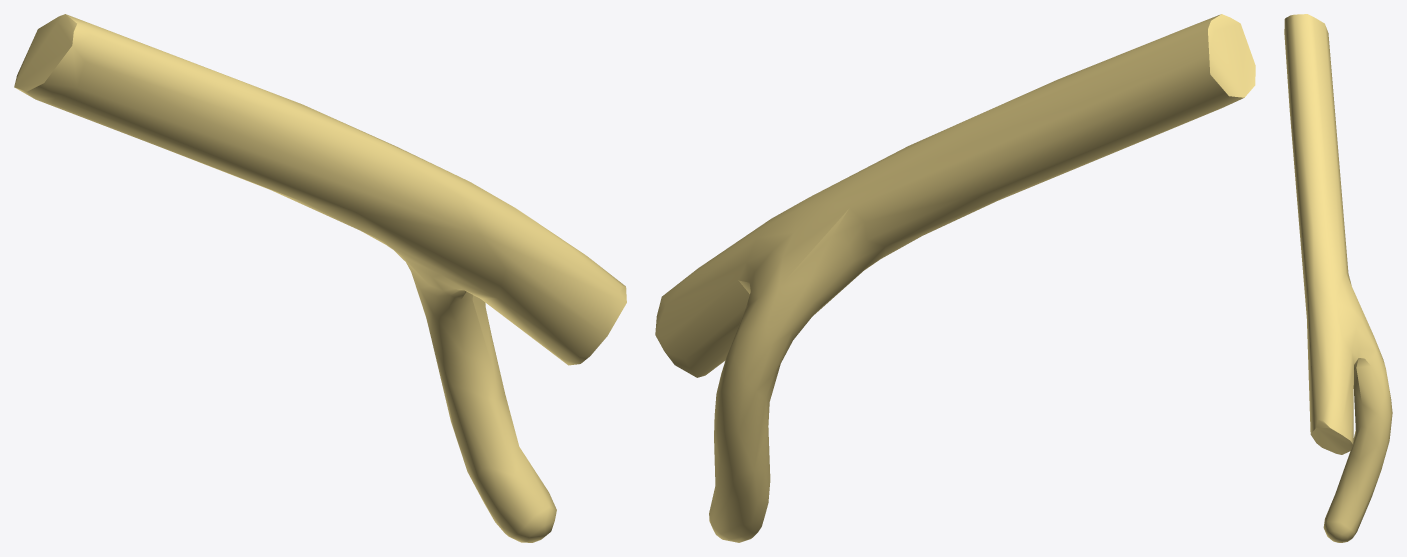
Rendered from fma65362_fj4290.glb.
3 views of the same model, side by side, from view 1: azimuth 30°, elevation 25°; view 2: azimuth 150°, elevation 25°; view 3: azimuth 270°, elevation 25° (orthographic). The views are drawn at different scales.
Parts seen in each view (by area): view 1: FMA65362_FJ4290; view 2: FMA65362_FJ4290; view 3: FMA65362_FJ4290.
Boxes of the visible parts, left/top/right/bottom form: FMA65362_FJ4290: left=14, top=14, right=626, bottom=542; FMA65362_FJ4290: left=655, top=14, right=1255, bottom=542; FMA65362_FJ4290: left=1284, top=14, right=1392, bottom=542.
Bounding box in the file's own units: 0.0294 × 0.03 × 0.00757.
